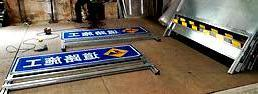sign: (9, 45, 140, 73), (61, 25, 147, 40)
